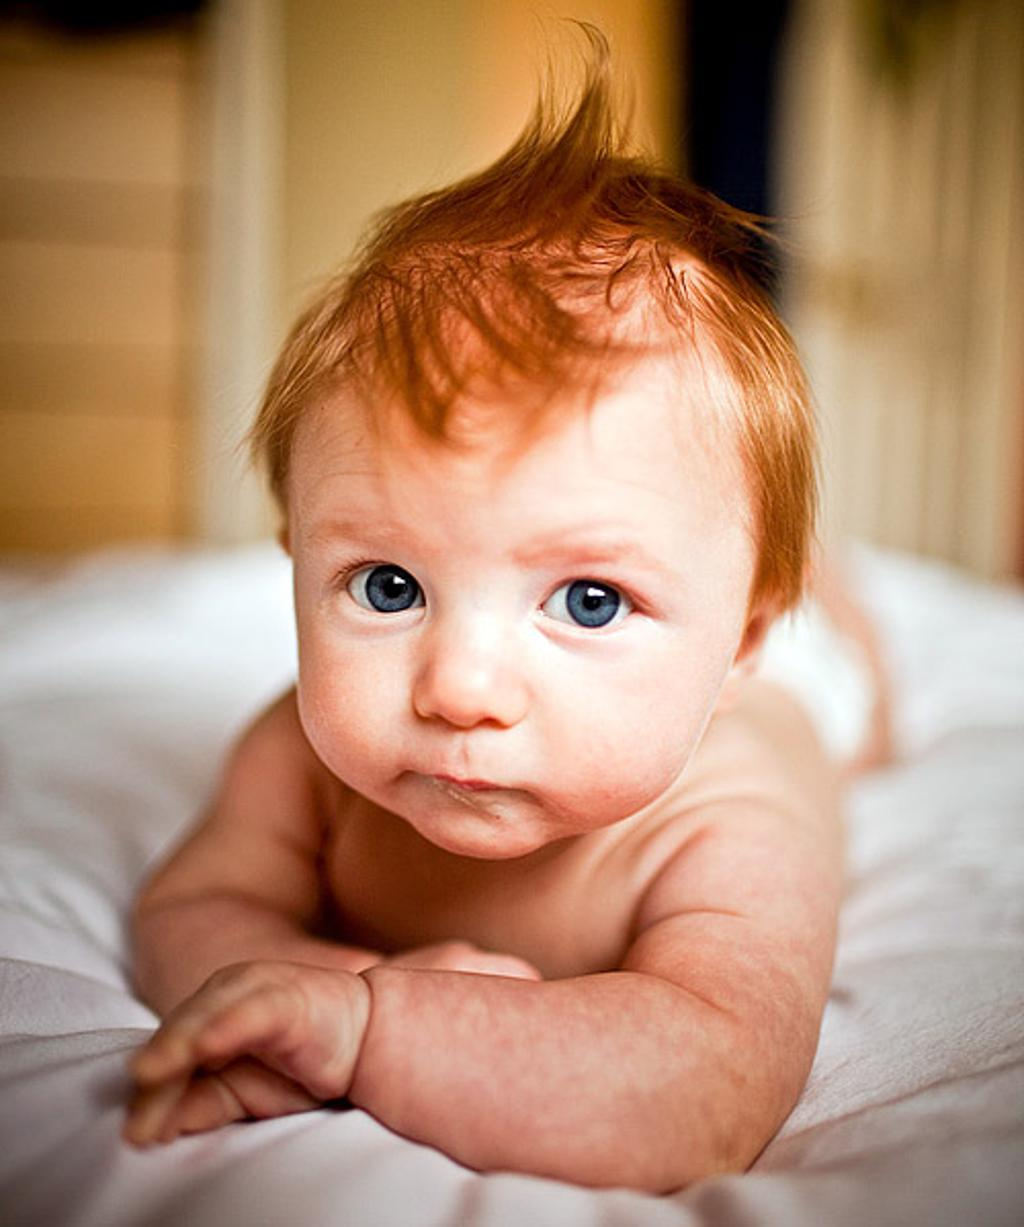face: (293, 345, 729, 861)
